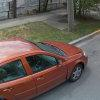Car: (4, 26, 89, 100)
